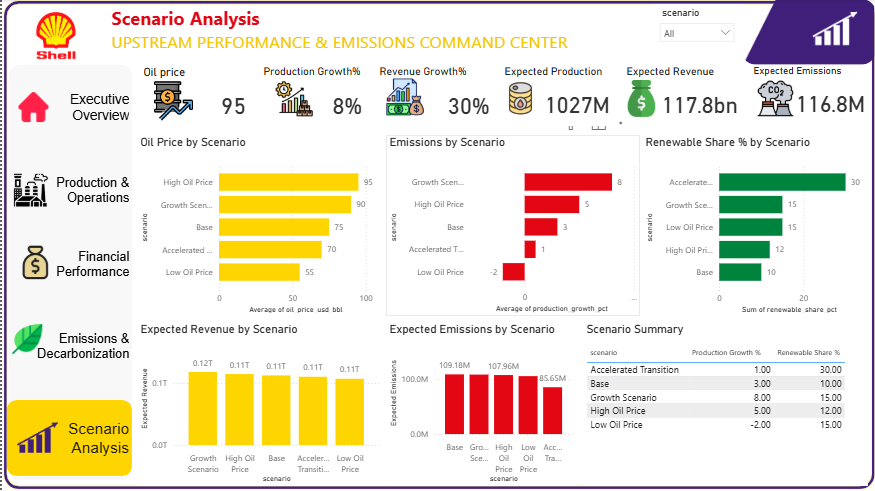

Layout of this report page (visuals, bound fields, positions):
{"tool":"powerbi","page":{"name":"Scenario Analysis","canvas":[1280,720],"ordinal":4},"visuals":[{"type":"shape","box":[0,0,1280,720],"z":0},{"type":"shape","box":[10.2,96.6,180,607.3],"z":1000},{"type":"image","box":[24.9,0,108.3,106.8],"z":2000},{"type":"actionButton","box":[0,106.8,190.2,103.9],"z":3000},{"type":"actionButton","box":[0,226.8,190.2,105.4],"z":4000},{"type":"actionButton","box":[1.5,335.1,188.8,105.4],"z":5000},{"type":"actionButton","box":[0,455.1,190.2,105.4],"z":6000},{"type":"actionButton","box":[0,586.8,190.2,111.2],"z":7000},{"type":"image","box":[19,136.1,54.1,43.9],"z":8000},{"type":"image","box":[8.8,253.2,64.4,52.7],"z":9000},{"type":"image","box":[24.9,360,48.3,51.2],"z":10000},{"type":"image","box":[0,475.6,73.2,43.9],"z":11000},{"type":"image","box":[19,619,65.9,45.4],"z":12000},{"type":"image","box":[1081.8,0,198.2,96.4],"z":13000},{"type":"clusteredBarChart","title":"Oil Price by Scenario","fields":{"Category":["dim_scenario.scenario"],"Y":["Avg(dim_scenario.oil_price_usd_bbl)"]},"box":[197.6,199,360,265.5],"z":14000},{"type":"clusteredColumnChart","title":"Expected Revenue by Scenario","fields":{"Category":["dim_scenario.scenario"],"Y":["All_Measures.Expected Revenue"]},"box":[197.6,472.7,360,240],"z":15000},{"type":"clusteredBarChart","title":"Emissions by Scenario","fields":{"Category":["dim_scenario.scenario"],"Y":["Avg(dim_scenario.production_growth_pct)"]},"box":[562,199,371.7,264.9],"z":16000},{"type":"clusteredColumnChart","title":"Expected Emissions by Scenario","fields":{"Category":["dim_scenario.scenario"],"Y":["All_Measures.Expected Emissions"]},"box":[562,472.7,278,240],"z":17000},{"type":"advanceCardE03760C5AB684758B56AA29F9E6C257B","title":"Oil price","fields":{"mainMeasure":["All_Measures.Scenario Oil Price"]},"box":[202,96.6,159.5,90.7],"z":18000},{"type":"advanceCardE03760C5AB684758B56AA29F9E6C257B","title":"Production Growth%","fields":{"mainMeasure":["All_Measures.Scenario Production Growth %"]},"box":[377.6,96.6,153.7,90.7],"z":19000},{"type":"advanceCardE03760C5AB684758B56AA29F9E6C257B","title":"Revenue Growth%","fields":{"mainMeasure":["All_Measures.Scenario Renewable Share %"]},"box":[547.3,96.6,171.2,90.7],"z":20000},{"type":"advanceCardE03760C5AB684758B56AA29F9E6C257B","title":"Expected Production","fields":{"mainMeasure":["All_Measures.Expected Production"]},"box":[730.2,96.6,163.9,89.3],"z":21000},{"type":"advanceCardE03760C5AB684758B56AA29F9E6C257B","title":"Expected Revenue","fields":{"mainMeasure":["All_Measures.Expected Revenue"]},"box":[908.8,96.6,172.7,89.3],"z":22000},{"type":"advanceCardE03760C5AB684758B56AA29F9E6C257B","title":"Expected Emissions","fields":{"mainMeasure":["All_Measures.Expected Emissions"]},"box":[1094.6,96.6,172.7,89.3],"z":23000},{"type":"clusteredBarChart","title":"Renewable Share % by Scenario","fields":{"Category":["dim_scenario.scenario"],"Y":["Sum(dim_scenario.renewable_share_pct)"]},"box":[936.6,199,330.9,265.5],"z":24000},{"type":"tableEx","title":"Scenario Summary","fields":{"Values":["dim_scenario.scenario","Sum(dim_scenario.production_growth_pct)","Sum(dim_scenario.renewable_share_pct)"]},"box":[850.2,472.7,417.1,240],"z":25000},{"type":"slicer","fields":{"Values":["dim_scenario.scenario"]},"box":[952.7,7.3,128.8,80.5],"z":26000},{"type":"textbox","box":[155.1,4.4,797.6,87.8],"z":26001}]}

Visuals, with their boxes in screenshot pixels (x1, y1, x2, y2), scaled from the page's 1280x720 canvas onto the 875x491 screenshot:
shape: box=[0, 0, 874, 490]
shape: box=[7, 66, 130, 480]
image: box=[17, 0, 91, 73]
actionButton: box=[0, 73, 130, 144]
actionButton: box=[0, 155, 130, 227]
actionButton: box=[1, 229, 130, 300]
actionButton: box=[0, 310, 130, 382]
actionButton: box=[0, 400, 130, 476]
image: box=[13, 93, 50, 123]
image: box=[6, 173, 50, 209]
image: box=[17, 246, 50, 280]
image: box=[0, 324, 50, 354]
image: box=[13, 422, 58, 453]
image: box=[740, 0, 874, 66]
"Oil Price by Scenario" clusteredBarChart: box=[135, 136, 381, 317]
"Expected Revenue by Scenario" clusteredColumnChart: box=[135, 322, 381, 486]
"Emissions by Scenario" clusteredBarChart: box=[384, 136, 638, 316]
"Expected Emissions by Scenario" clusteredColumnChart: box=[384, 322, 574, 486]
"Oil price" advanceCardE03760C5AB684758B56AA29F9E6C257B: box=[138, 66, 247, 128]
"Production Growth%" advanceCardE03760C5AB684758B56AA29F9E6C257B: box=[258, 66, 363, 128]
"Revenue Growth%" advanceCardE03760C5AB684758B56AA29F9E6C257B: box=[374, 66, 491, 128]
"Expected Production" advanceCardE03760C5AB684758B56AA29F9E6C257B: box=[499, 66, 611, 127]
"Expected Revenue" advanceCardE03760C5AB684758B56AA29F9E6C257B: box=[621, 66, 739, 127]
"Expected Emissions" advanceCardE03760C5AB684758B56AA29F9E6C257B: box=[748, 66, 866, 127]
"Renewable Share % by Scenario" clusteredBarChart: box=[640, 136, 866, 317]
"Scenario Summary" tableEx: box=[581, 322, 866, 486]
slicer - dim_scenario.scenario: box=[651, 5, 739, 60]
textbox: box=[106, 3, 651, 63]
